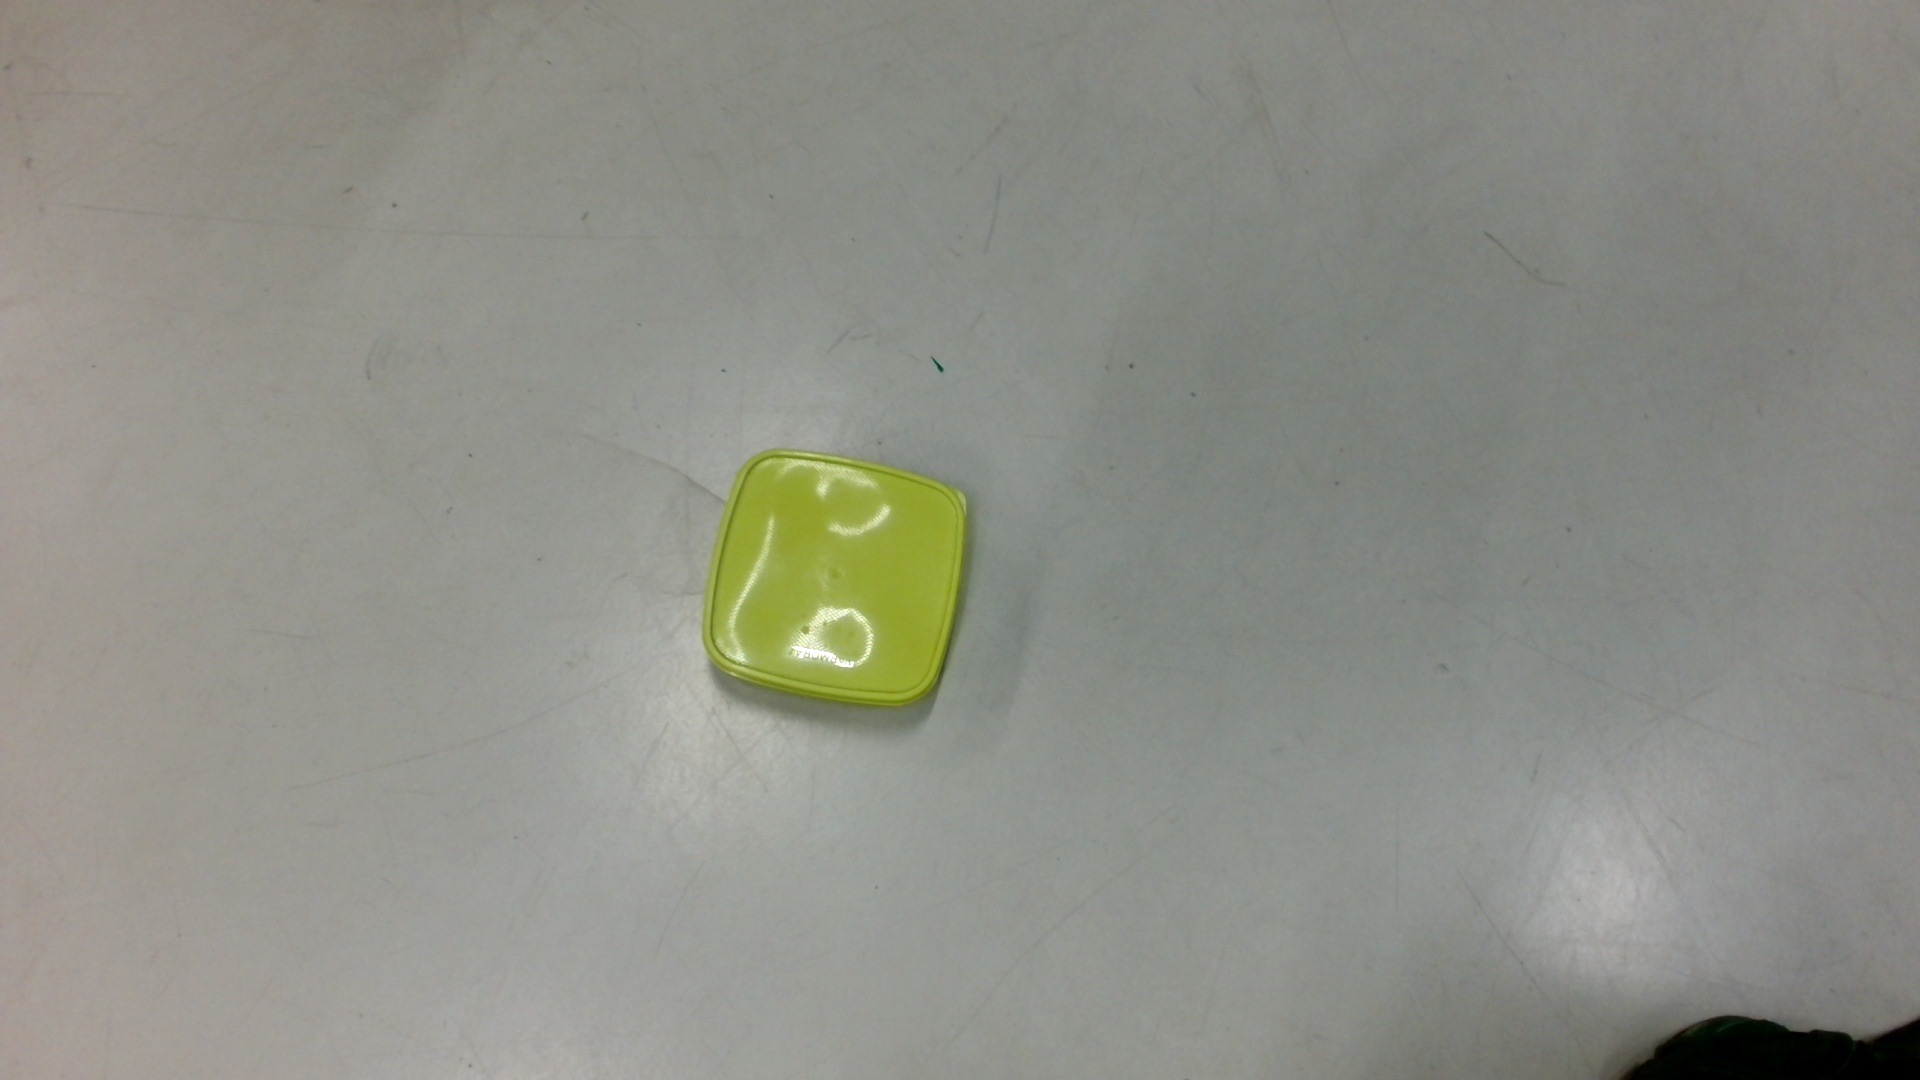Box: (698, 440, 975, 723)
